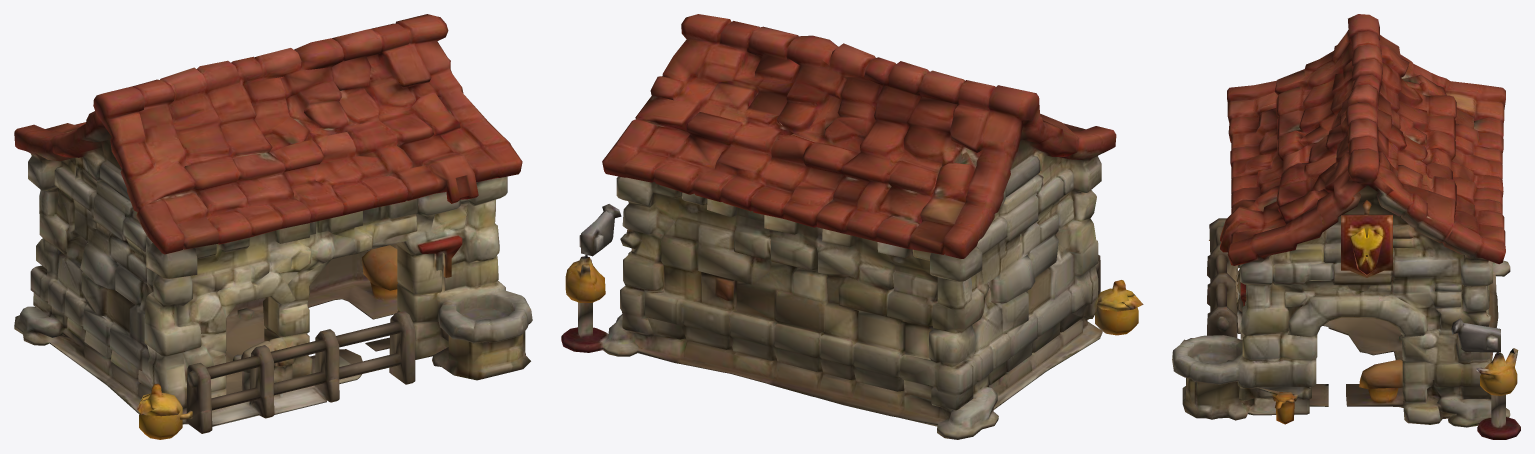
The model's file is relevo_tripo.glb.
3 renders of one model, left to right at view 1: azimuth 30°, elevation 25°; view 2: azimuth 150°, elevation 25°; view 3: azimuth 270°, elevation 25°, orthographic. The views are drawn at different scales.
Parts seen in each view (by area): view 1: tripo_node_0f12253a-1f7e-4b91-86ad-c860202ed92d; view 2: tripo_node_0f12253a-1f7e-4b91-86ad-c860202ed92d; view 3: tripo_node_0f12253a-1f7e-4b91-86ad-c860202ed92d.
Boxes of the visible parts, box(x1,y1,x2,y2) form: tripo_node_0f12253a-1f7e-4b91-86ad-c860202ed92d: box(14, 14, 532, 439); tripo_node_0f12253a-1f7e-4b91-86ad-c860202ed92d: box(561, 14, 1143, 439); tripo_node_0f12253a-1f7e-4b91-86ad-c860202ed92d: box(1172, 14, 1520, 439).
Bounding box in the file's own units: 0.9784 × 0.6261 × 0.7678.
Materials: 1 (1 with a texture image).
